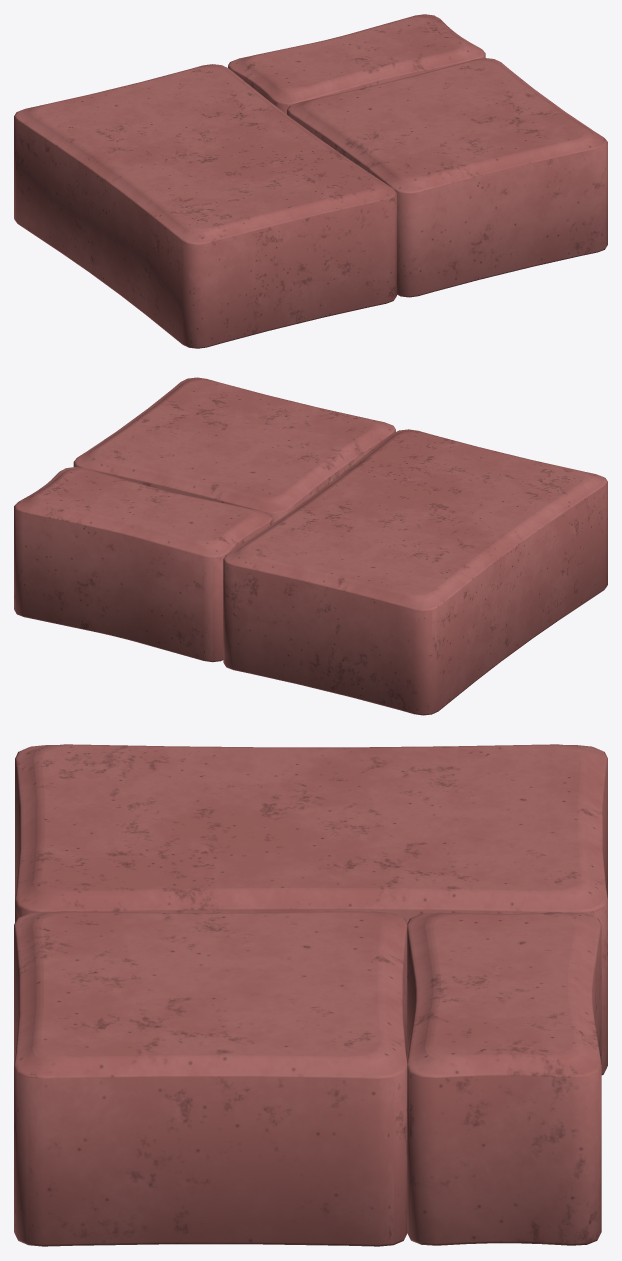
The model's file is owc-red.gltf.
3 renders of one model, top to bottom at view 1: azimuth 30°, elevation 25°; view 2: azimuth 150°, elevation 25°; view 3: azimuth 270°, elevation 25°, orthographic. The views are drawn at different scales.
Parts seen in each view (by area): view 1: Old World Cobble Regular.001, Old World Cobble Square.001, Old World Cobble Half.001; view 2: Old World Cobble Regular.001, Old World Cobble Half.001, Old World Cobble Square.001; view 3: Old World Cobble Square.001, Old World Cobble Regular.001, Old World Cobble Half.001.
Part boxes in pixels (x1=…): Old World Cobble Regular.001: x1=14, y1=64, x2=396, y2=348; Old World Cobble Square.001: x1=287, y1=58, x2=607, y2=297; Old World Cobble Half.001: x1=228, y1=14, x2=485, y2=114; Old World Cobble Regular.001: x1=223, y1=429, x2=607, y2=715; Old World Cobble Half.001: x1=14, y1=467, x2=273, y2=662; Old World Cobble Square.001: x1=73, y1=377, x2=395, y2=523; Old World Cobble Square.001: x1=14, y1=911, x2=407, y2=1246; Old World Cobble Regular.001: x1=15, y1=744, x2=607, y2=1075; Old World Cobble Half.001: x1=407, y1=912, x2=601, y2=1245.
Size of the model in its own units: 0.239 by 0.0603 by 0.1801.
Materials: 1 (1 with a texture image).
